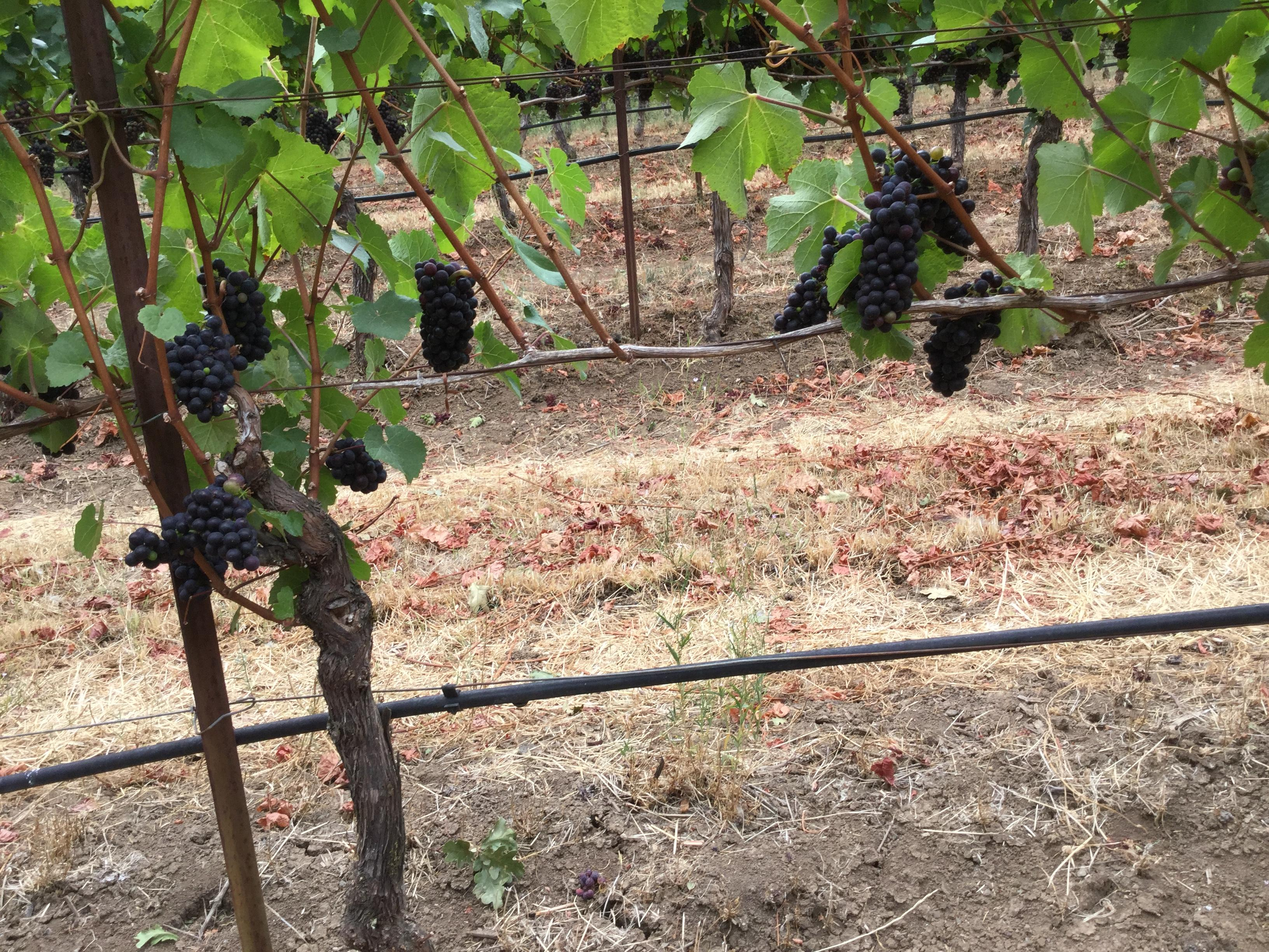leaf: (681, 63, 803, 215), (257, 123, 338, 252), (412, 87, 495, 208), (180, 0, 283, 89), (1091, 83, 1157, 214), (764, 159, 847, 252), (1017, 28, 1099, 119), (545, 0, 663, 63), (1038, 142, 1103, 252), (1128, 55, 1203, 142), (448, 60, 519, 151), (1130, 0, 1231, 61), (0, 299, 57, 392), (350, 0, 410, 84), (171, 104, 246, 168), (496, 221, 565, 287), (354, 212, 412, 286), (841, 302, 914, 360), (1194, 188, 1260, 252), (526, 182, 579, 255), (364, 424, 426, 482), (548, 147, 591, 224), (994, 309, 1068, 353), (1227, 36, 1268, 109), (0, 141, 33, 231), (216, 76, 284, 119), (44, 326, 91, 386), (934, 0, 1000, 40), (388, 229, 439, 279), (917, 234, 963, 289), (827, 240, 863, 306), (185, 413, 237, 456), (777, 0, 837, 37), (473, 321, 516, 367), (115, 16, 156, 63), (1004, 252, 1054, 290), (73, 500, 104, 557), (138, 304, 186, 340), (1152, 238, 1189, 284), (1244, 322, 1268, 382), (368, 387, 407, 423), (866, 78, 900, 117), (316, 26, 360, 53), (1252, 151, 1268, 208), (774, 24, 806, 49), (1233, 100, 1261, 128), (332, 53, 353, 89), (863, 114, 879, 131), (175, 3, 187, 22), (1201, 240, 1218, 252), (1259, 14, 1268, 26), (425, 71, 434, 79), (1231, 14, 1238, 20), (174, 110, 180, 115), (1053, 30, 1056, 39), (1213, 40, 1216, 47), (1208, 48, 1212, 53), (1221, 27, 1223, 32), (159, 4, 161, 6), (1094, 14, 1095, 14)
